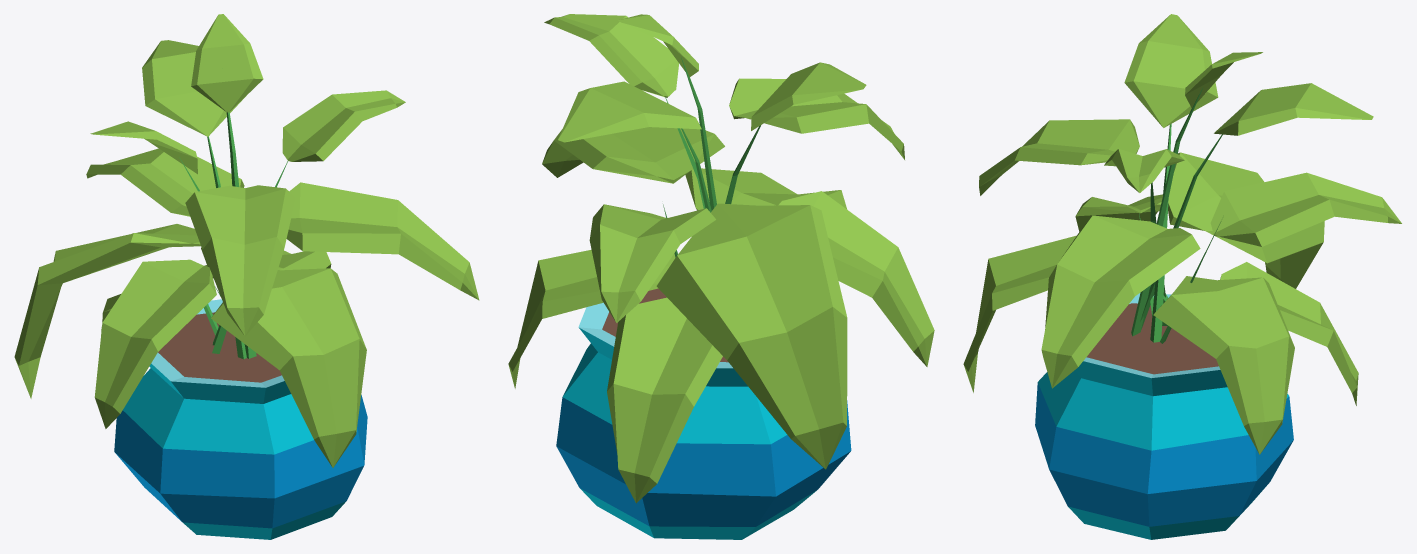
Rendered from Pot Plant.fbx.
3 views of the same model, side by side, from view 1: azimuth 30°, elevation 25°; view 2: azimuth 150°, elevation 25°; view 3: azimuth 270°, elevation 25° (orthographic). The views are drawn at different scales.
Parts seen in each view (by area): view 1: Pot Plant; view 2: Pot Plant; view 3: Pot Plant.
Part boxes in pixels (x1=…): Pot Plant: x1=14, y1=14, x2=479, y2=539; Pot Plant: x1=508, y1=14, x2=934, y2=539; Pot Plant: x1=963, y1=14, x2=1401, y2=539.
Size of the model in its own units: 0.5715 by 0.6897 by 0.589.
